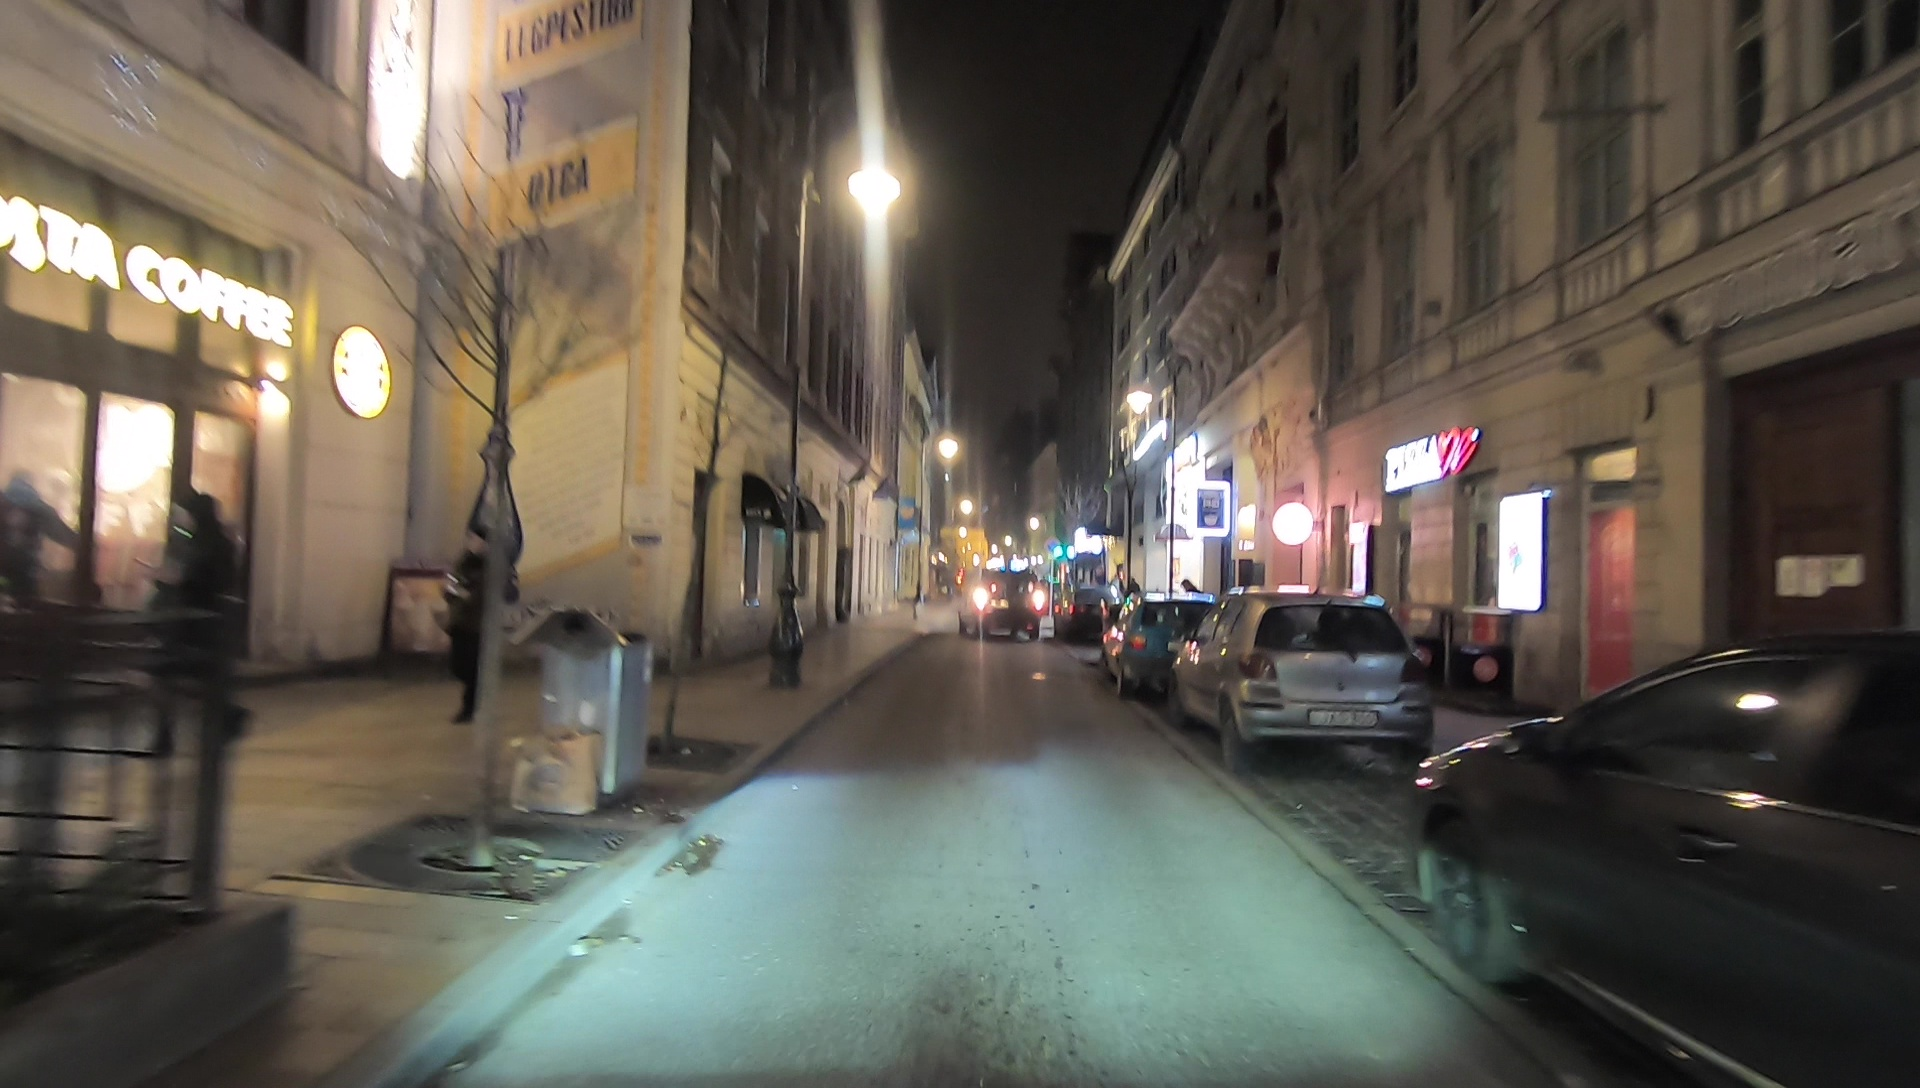person: (147, 495, 260, 749)
